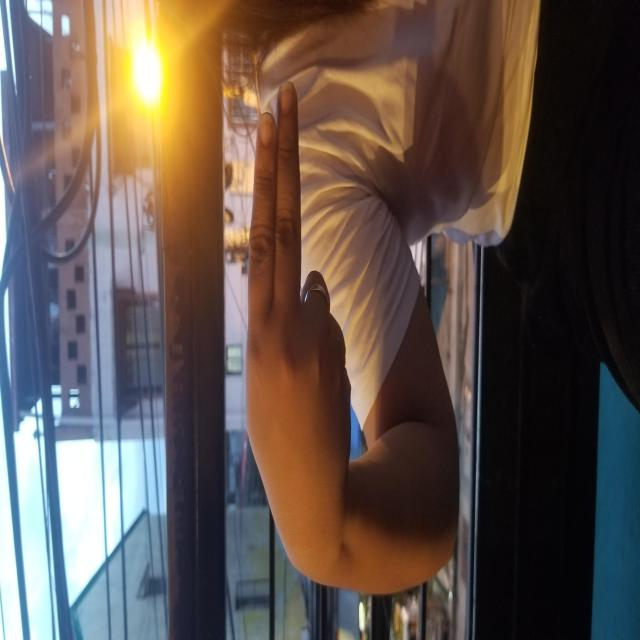H: (76, 243, 558, 352)
